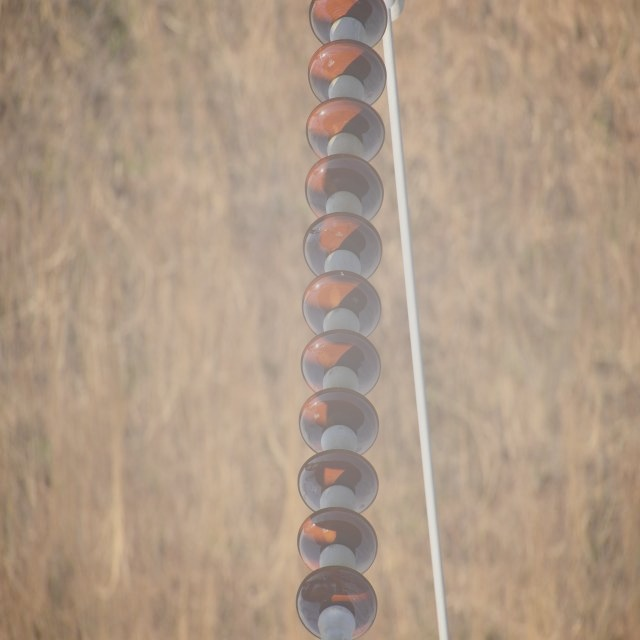insulator: (296, 0, 393, 637)
